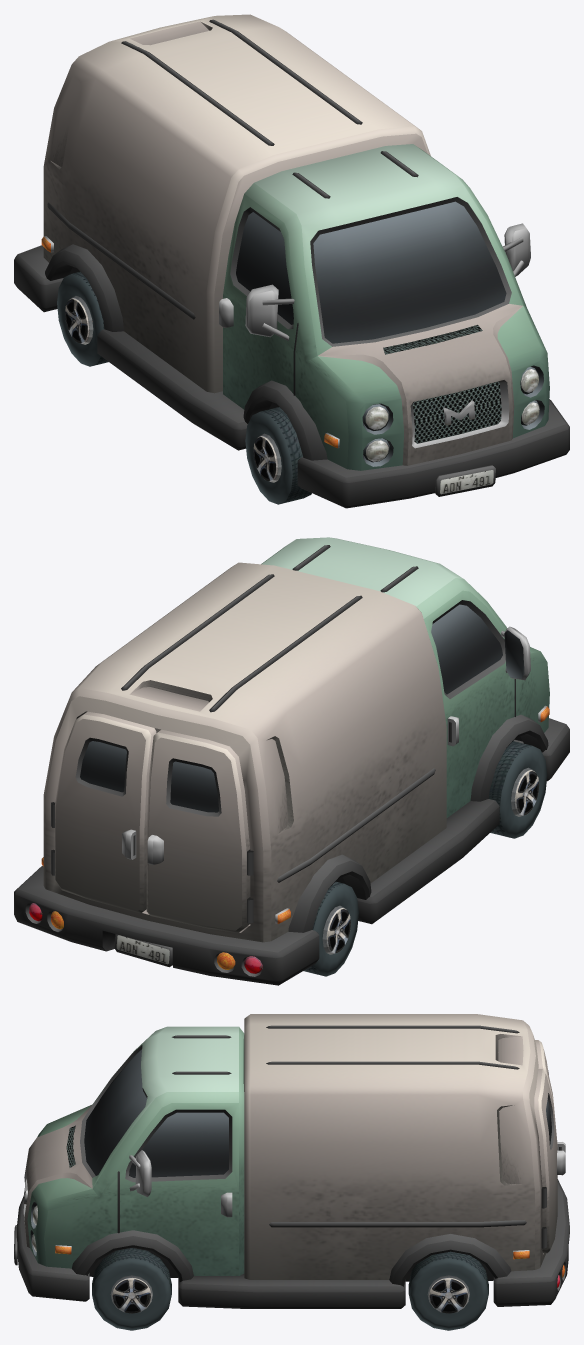
The model's file is VHC0110015.FBX.
3 renders of one model, top to bottom at view 1: azimuth 30°, elevation 25°; view 2: azimuth 150°, elevation 25°; view 3: azimuth 270°, elevation 25°, orthographic. The views are drawn at different scales.
Visible parts, largest first — view 1: smVHC0110015; view 2: smVHC0110015; view 3: smVHC0110015.
Part boxes in pixels (x1,y1,x2,y2): smVHC0110015: [14, 14, 569, 508]; smVHC0110015: [14, 537, 569, 985]; smVHC0110015: [14, 1014, 569, 1330].
Bounding box in the file's own units: 2.74 × 2.59 × 5.56.
Materials: 1 (1 with a texture image).
